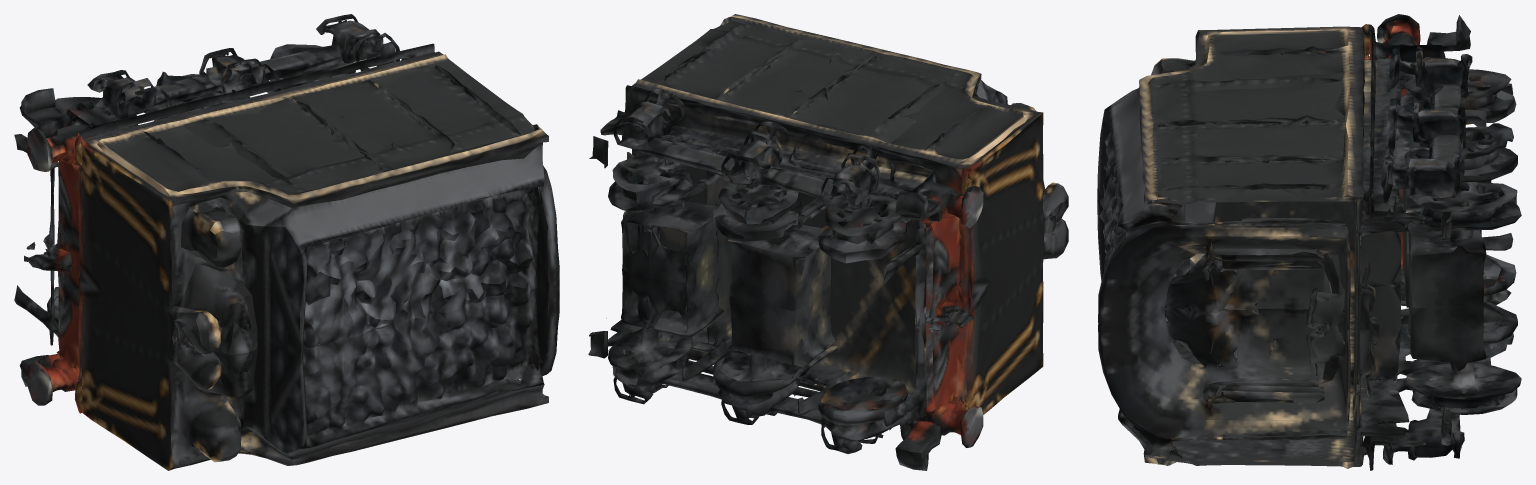
File: black_five_tender.glb
3 renders of one model, left to right at view 1: azimuth 30°, elevation 25°; view 2: azimuth 150°, elevation 25°; view 3: azimuth 270°, elevation 25°, orthographic. The views are drawn at different scales.
Parts seen in each view (by area): view 1: part_tender; view 2: part_tender; view 3: part_tender.
Boxes of the visible parts, x1,y1,x2,y2 form: part_tender: (14,14,559,470); part_tender: (588,14,1068,470); part_tender: (1097,14,1521,470).
Size of the model in its own units: 3.72 by 2.86 by 3.62.
1 material, 1 textured.
